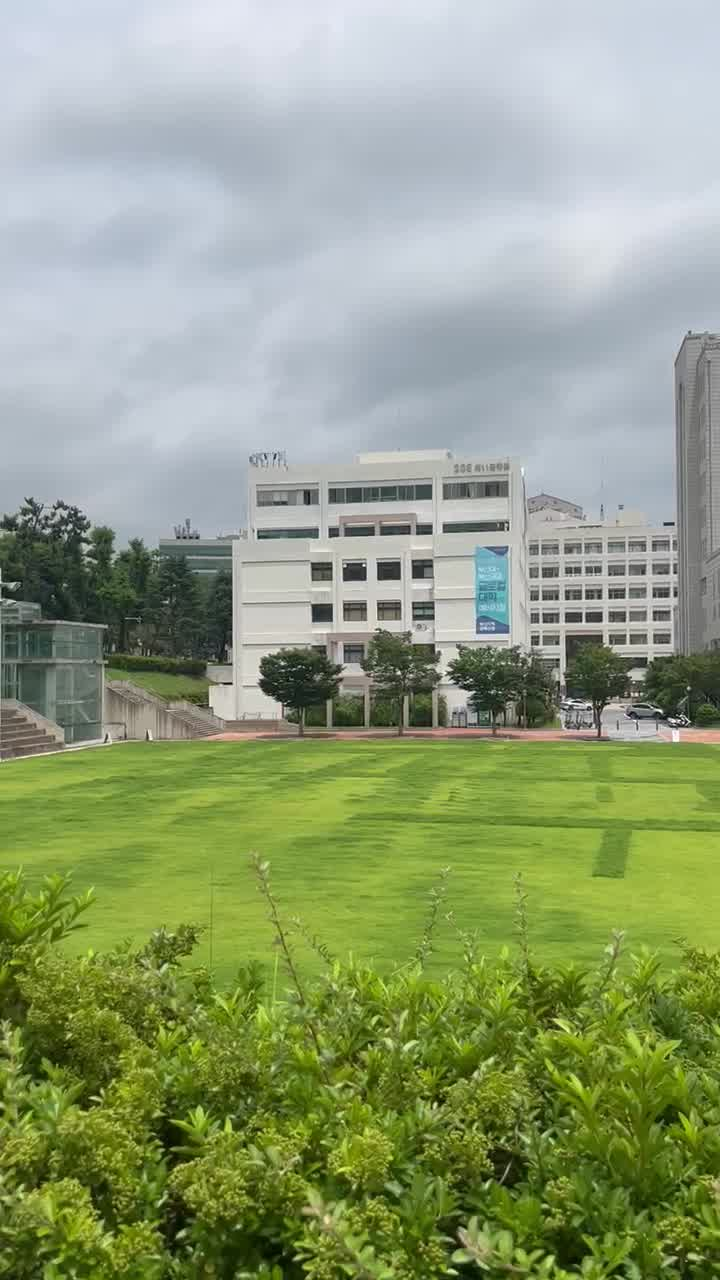low: (240, 438, 526, 642)
